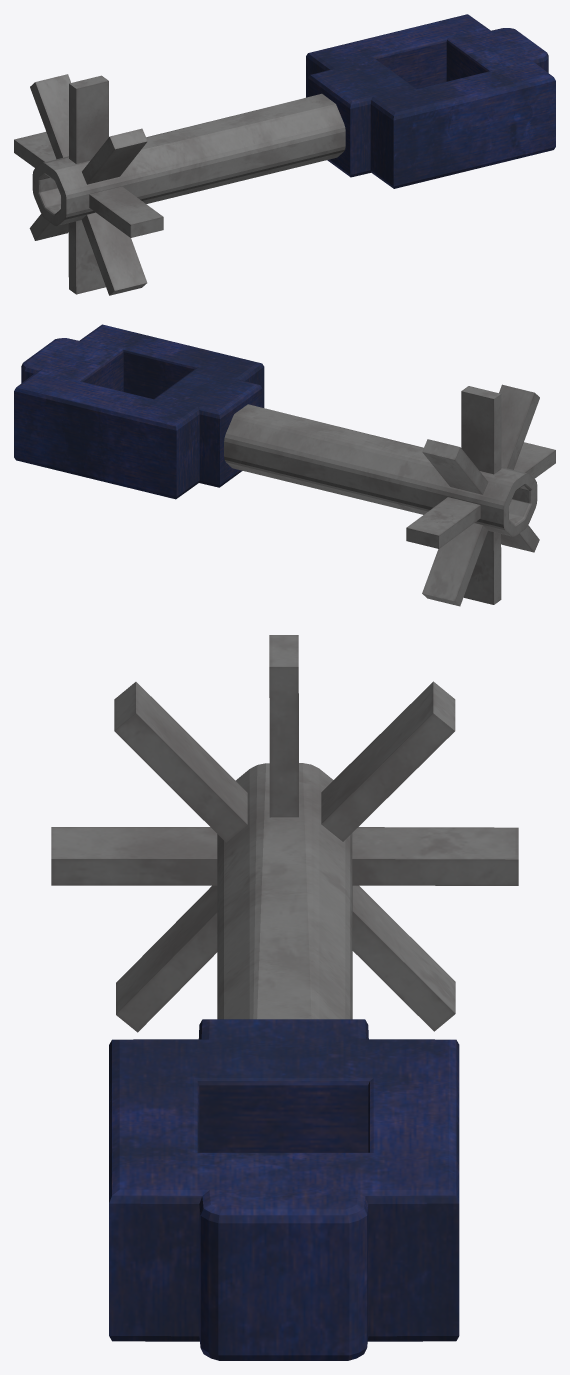
File: Chave_4.fbx
The picture shows the model from 3 angles, top to bottom: view 1: azimuth 30°, elevation 25°; view 2: azimuth 150°, elevation 25°; view 3: azimuth 270°, elevation 25°; orthographic projection. The views are drawn at different scales.
Parts seen in each view (by area): view 1: Chave_4; view 2: Chave_4; view 3: Chave_4.
Boxes of the visible parts, x1,y1,x2,y2 form: Chave_4: (14,14,555,295); Chave_4: (14,324,555,606); Chave_4: (51,635,518,1360).
Size of the model in its own units: 7.14 by 2.91 by 3.
